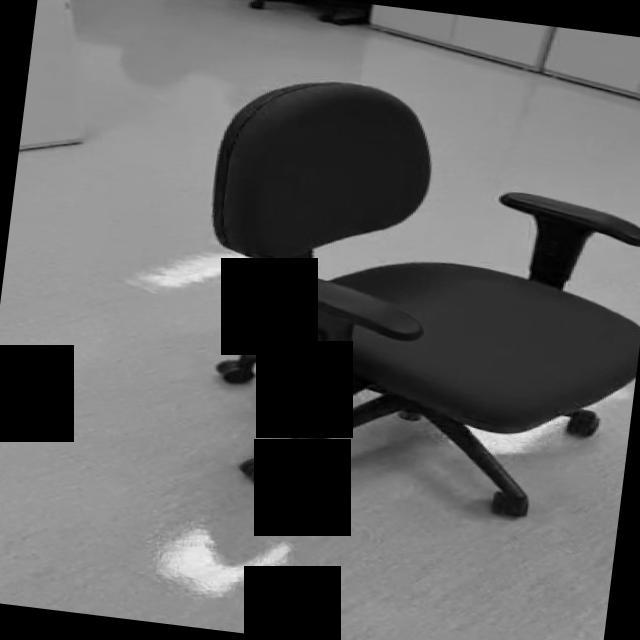chair: (177, 66, 640, 527)
